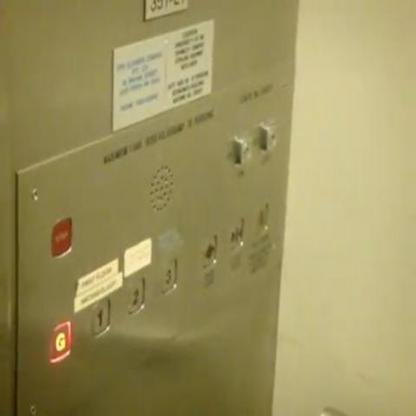1: (91, 298, 111, 336)
2: (127, 276, 146, 316)
3: (160, 256, 178, 296)
G: (50, 320, 70, 362)
blur: (50, 215, 72, 257)
close: (229, 218, 243, 253)
keyhole: (258, 117, 278, 154), (232, 132, 253, 166)
open: (201, 233, 216, 270)
